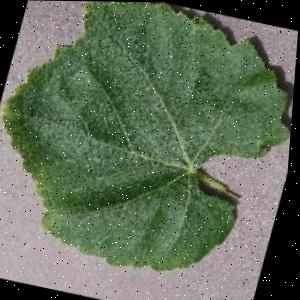Folha: (0, 0, 300, 294)
